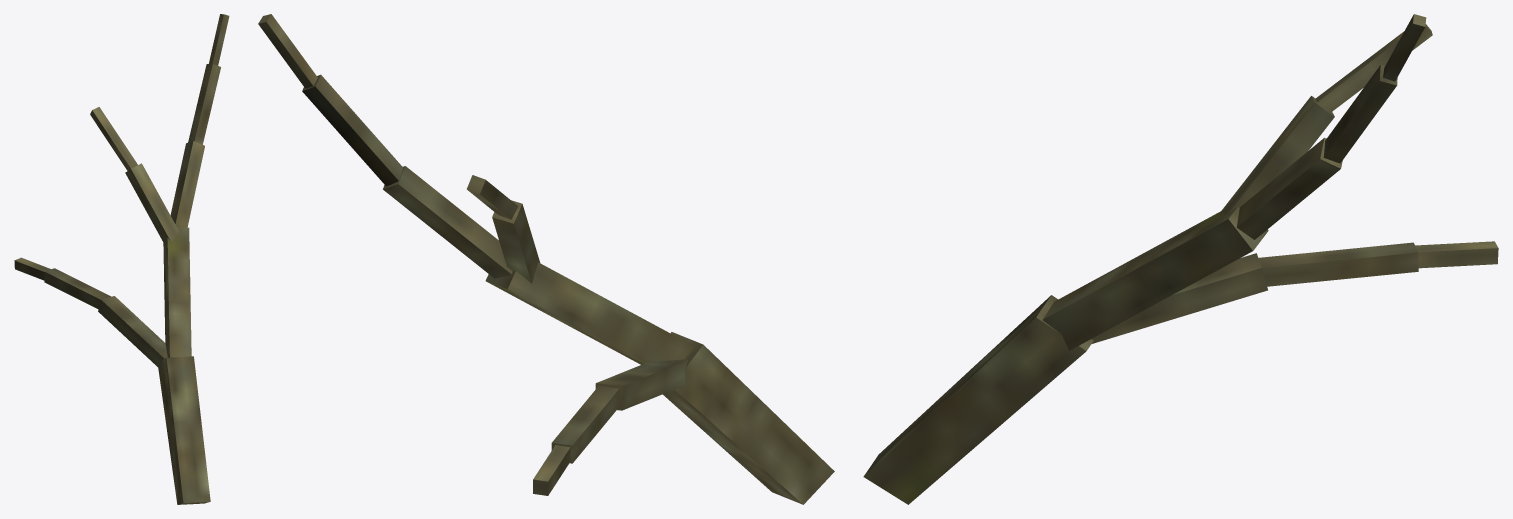
File: poplar_twig_branch_3.obj
The picture shows the model from 3 angles, left to right: view 1: azimuth 30°, elevation 25°; view 2: azimuth 150°, elevation 25°; view 3: azimuth 270°, elevation 25°; orthographic projection. The views are drawn at different scales.
Visible parts, largest first — view 1: cube; view 2: cube; view 3: cube.
Boxes of the visible parts, x1=… form: cube: x1=14, y1=14, x2=229, y2=504; cube: x1=258, y1=14, x2=834, y2=504; cube: x1=863, y1=14, x2=1498, y2=504.
Size of the model in its own units: 1.37 by 2.36 by 2.15.
